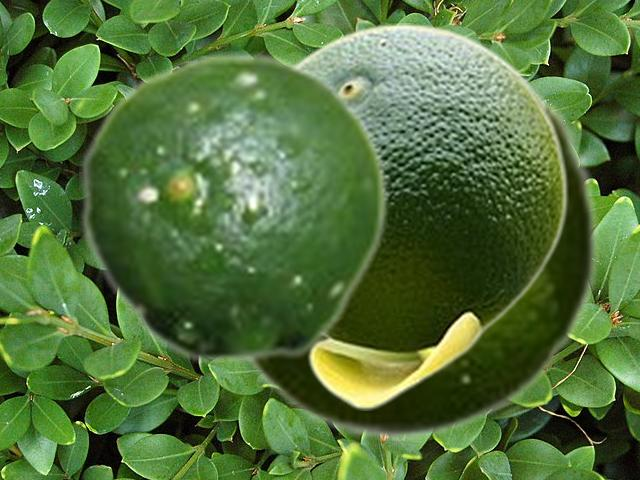calamansi: (241, 33, 601, 439), (294, 23, 567, 409), (79, 51, 389, 365)
